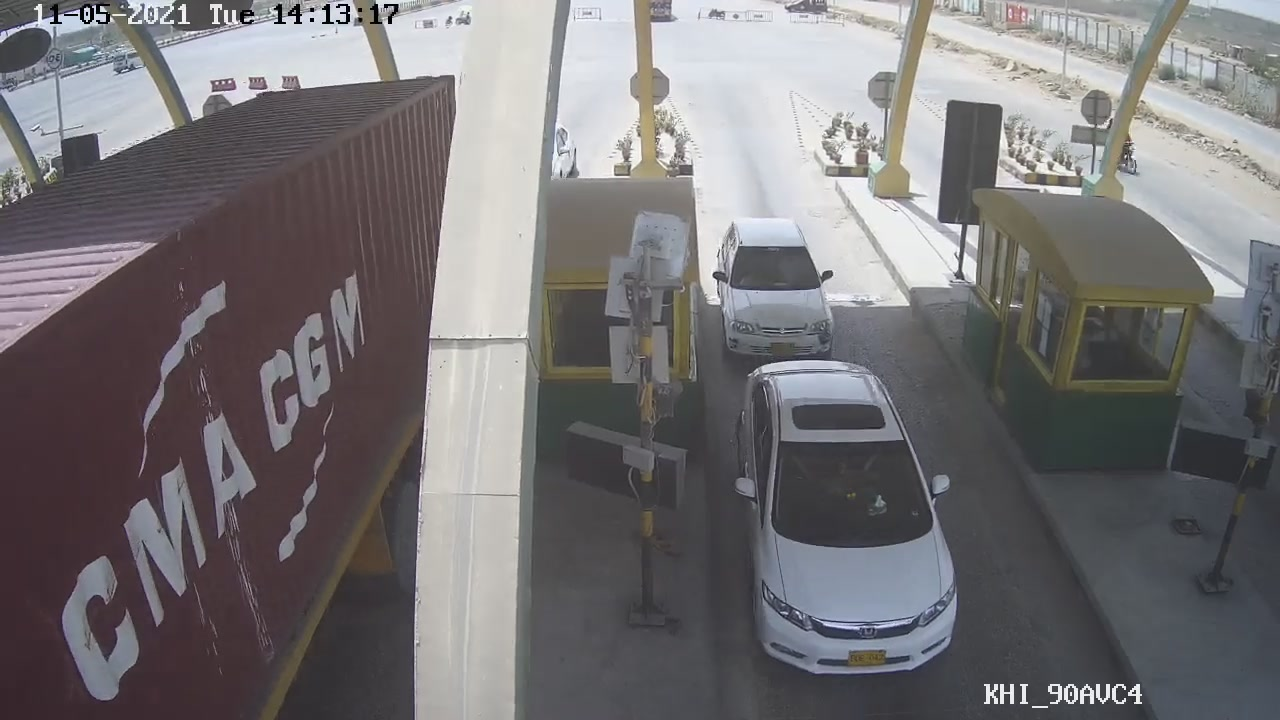F1: (735, 360, 961, 679), (712, 213, 848, 357)
